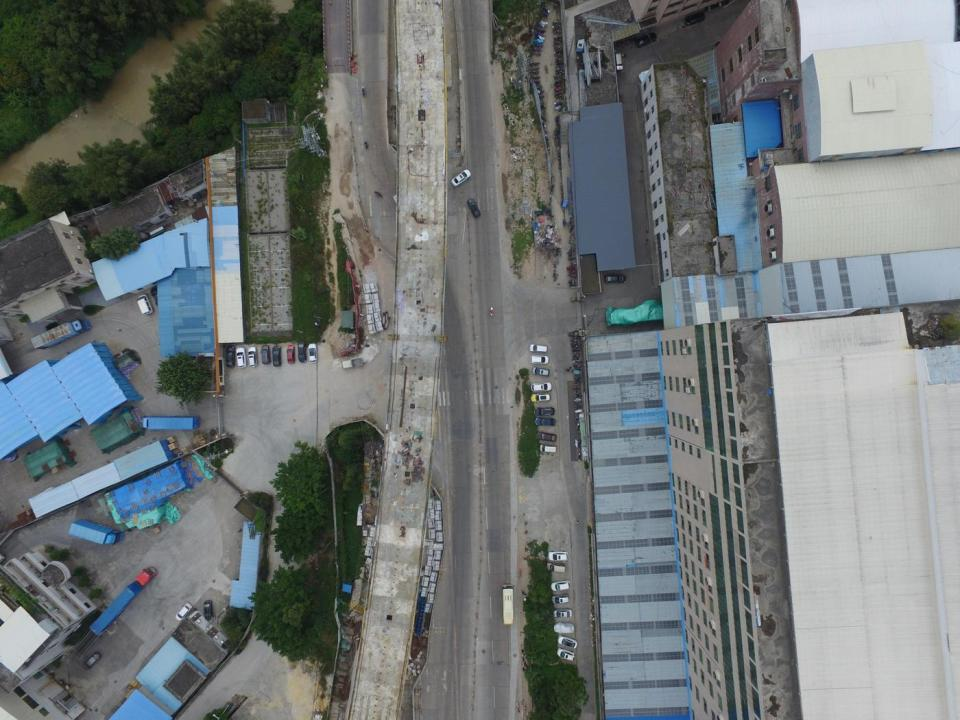bus: (500, 584, 516, 626)
car: (451, 168, 472, 187), (81, 652, 102, 670), (174, 602, 192, 622), (557, 635, 578, 649), (557, 646, 575, 662), (270, 345, 283, 367), (535, 429, 557, 442), (234, 347, 247, 368), (296, 341, 308, 363), (547, 550, 569, 562), (553, 622, 575, 634), (468, 198, 481, 218), (603, 273, 626, 284), (203, 600, 215, 621), (225, 345, 236, 367), (534, 406, 556, 417), (534, 415, 556, 426), (550, 580, 572, 591), (248, 346, 259, 367), (531, 381, 552, 392), (260, 345, 271, 365), (529, 392, 551, 402), (531, 366, 550, 377), (285, 344, 295, 364), (552, 608, 572, 618), (308, 343, 318, 362), (552, 594, 569, 605), (530, 354, 548, 363), (530, 344, 548, 352)
truck: (74, 566, 159, 655), (30, 319, 91, 350), (68, 518, 123, 545), (142, 415, 202, 430)
van: (136, 294, 154, 316), (547, 561, 565, 573), (539, 443, 557, 453)
